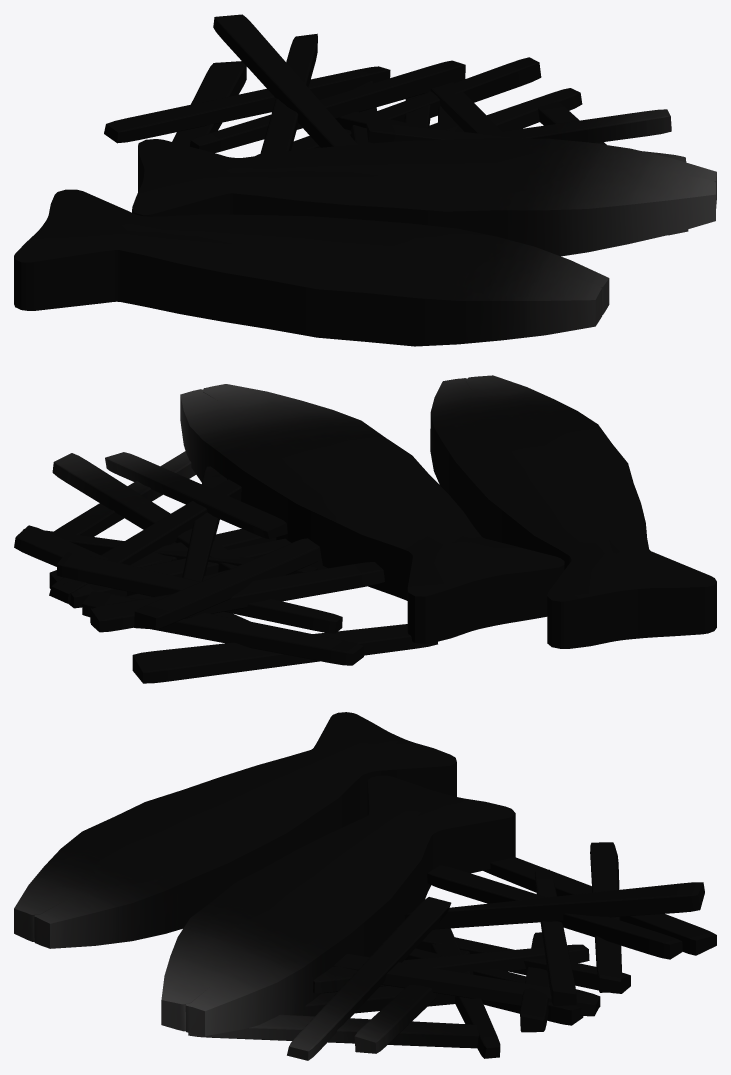
Rendered from FishandChipsBurnt.glb.
3 renders of one model, top to bottom at view 1: azimuth 30°, elevation 25°; view 2: azimuth 150°, elevation 25°; view 3: azimuth 270°, elevation 25°, orthographic. The views are drawn at different scales.
Parts seen in each view (by area): view 1: FishandChipsBurnt; view 2: FishandChipsBurnt; view 3: FishandChipsBurnt.
Boxes of the visible parts, x1=… form: FishandChipsBurnt: x1=14, y1=14, x2=716, y2=346; FishandChipsBurnt: x1=14, y1=375, x2=716, y2=683; FishandChipsBurnt: x1=14, y1=712, x2=716, y2=1060.
Bounding box in the file's own units: 0.3723 × 0.0457 × 0.3587.
Materials: 1 (1 with a texture image).
